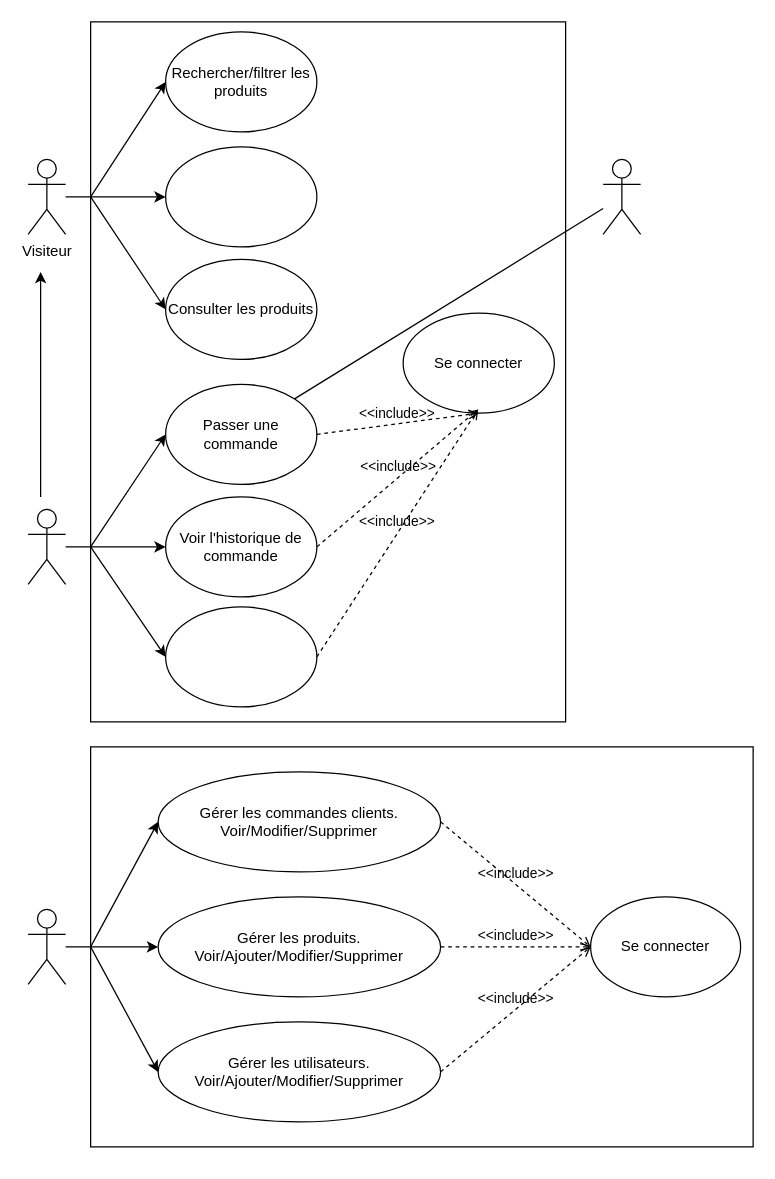
The diagram is 775 pixels wide and 1179 high, and some of its shapes have lost their labels. Here are the shapes that lost their labels. From the top down, the centre of each, then its label:
(240,196): Ajouter/modifier des produits au panier
(621,196): Stripe
(46,546): Client
(240,656): Modifier ses infos personnelles
(46,946): Admin
